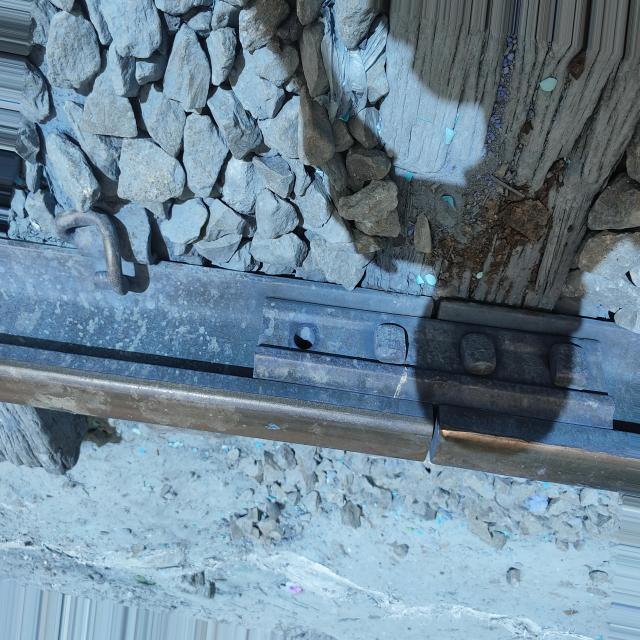Defective Joint: (253, 296, 614, 449)
Good Fasteners: (54, 210, 127, 294)
